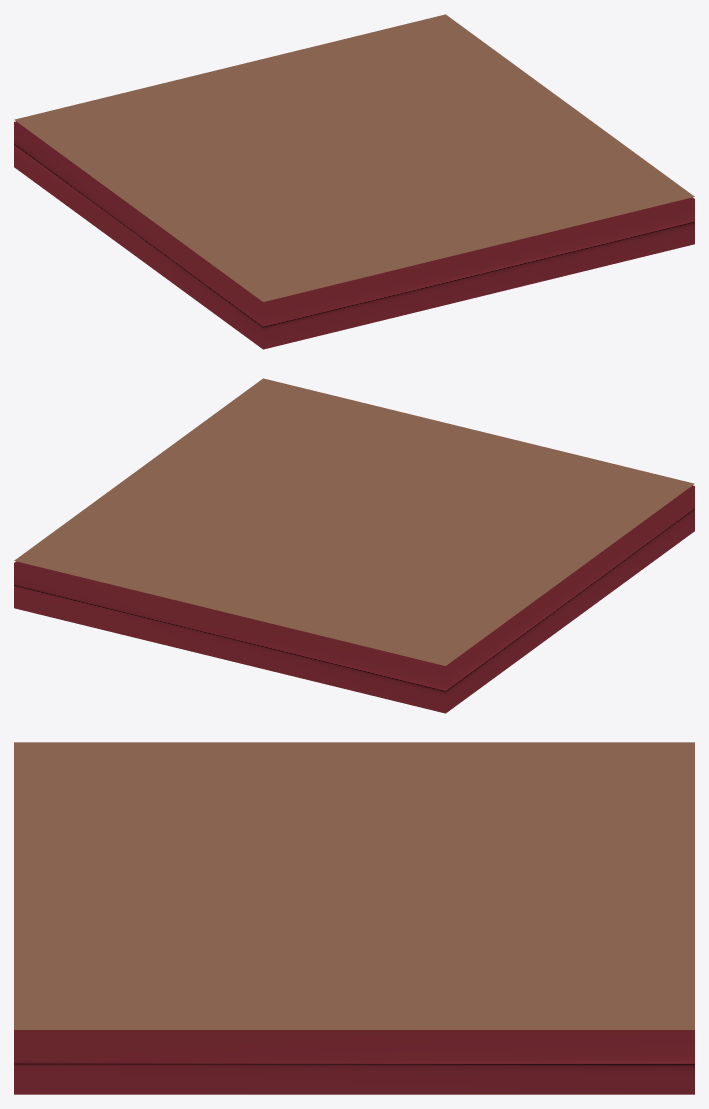
The model's file is tile_cinder_path.glb.
3 views of the same model, one above another, from view 1: azimuth 30°, elevation 25°; view 2: azimuth 150°, elevation 25°; view 3: azimuth 270°, elevation 25° (orthographic). The views are drawn at different scales.
Parts seen in each view (by area): view 1: Tile.001; view 2: Tile.001; view 3: Tile.001.
Part boxes in pixels (x1,y1,x2,y2): Tile.001: (14, 14, 694, 349); Tile.001: (14, 378, 694, 713); Tile.001: (14, 742, 694, 1094).
Size of the model in its own units: 1 by 0.105 by 1.
